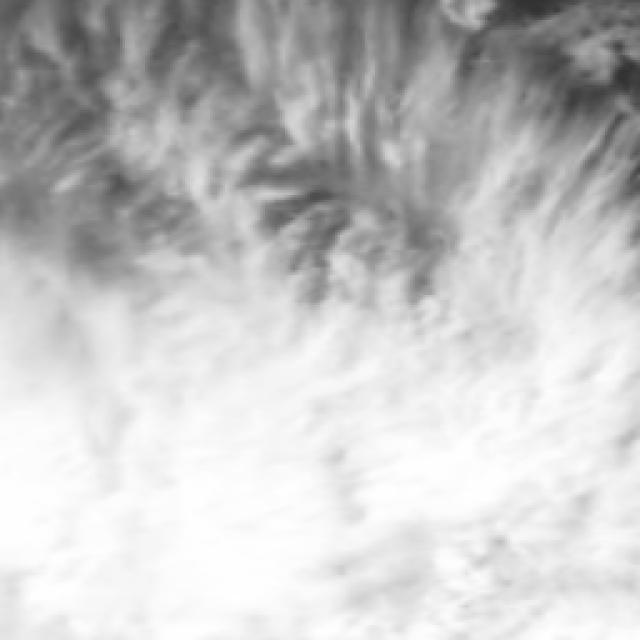CB: (0, 322, 436, 640), (397, 339, 619, 512)
